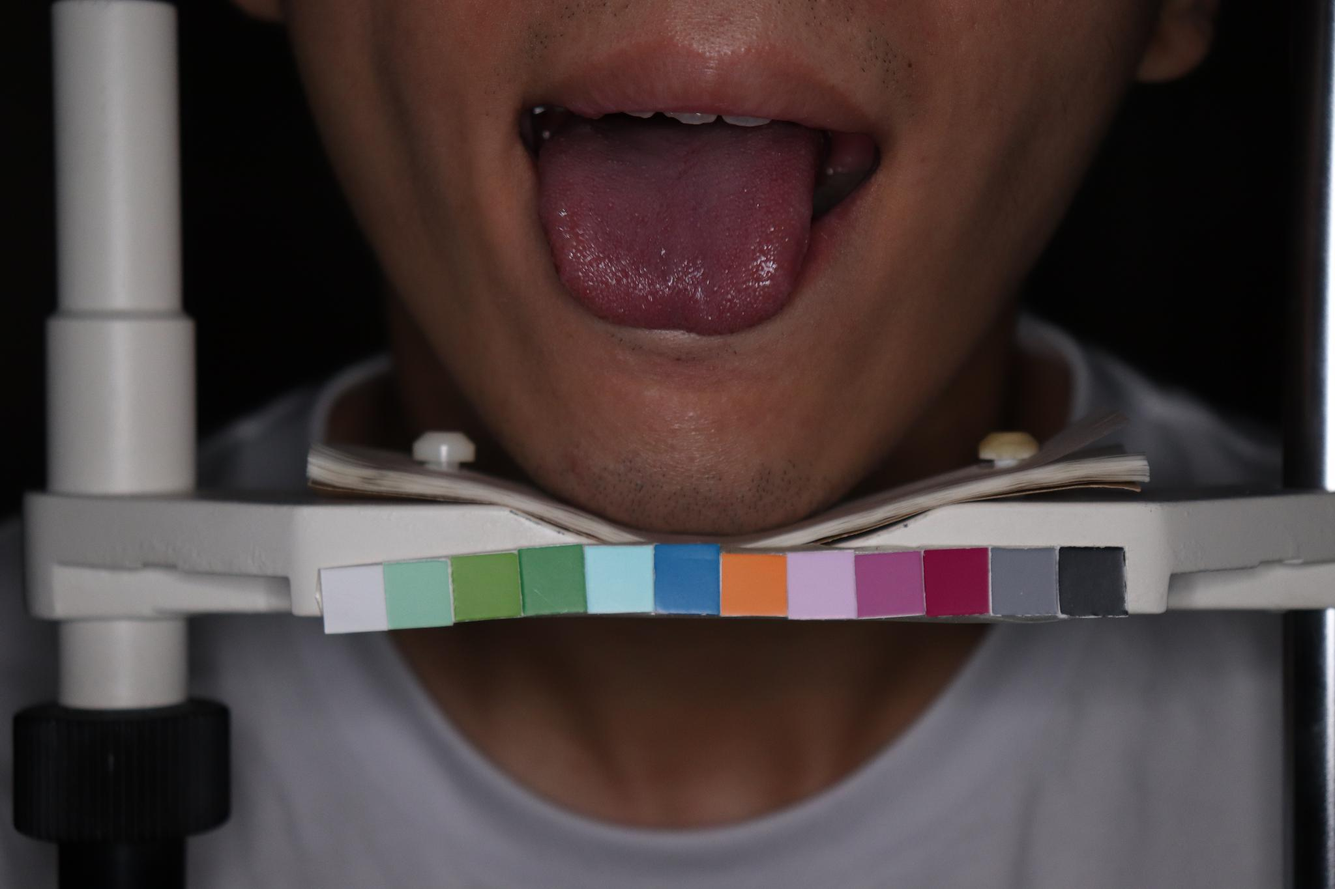hongshe: (538, 122, 817, 337)
